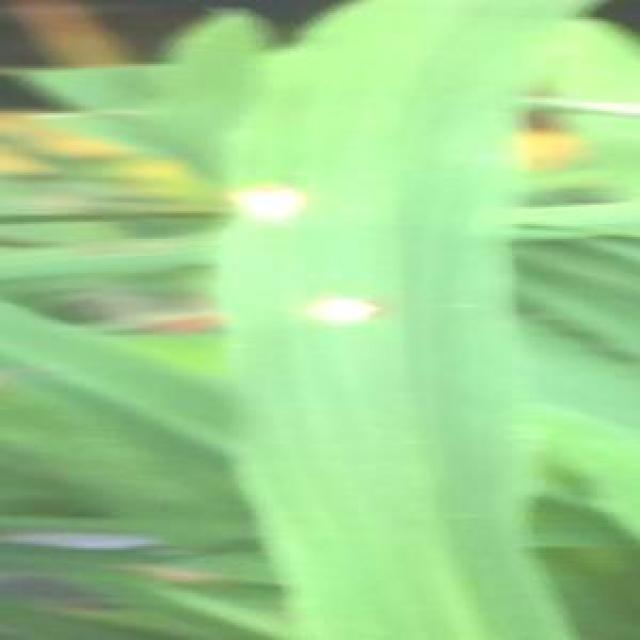Rice_Blast: (264, 273, 412, 356), (198, 172, 310, 242)
